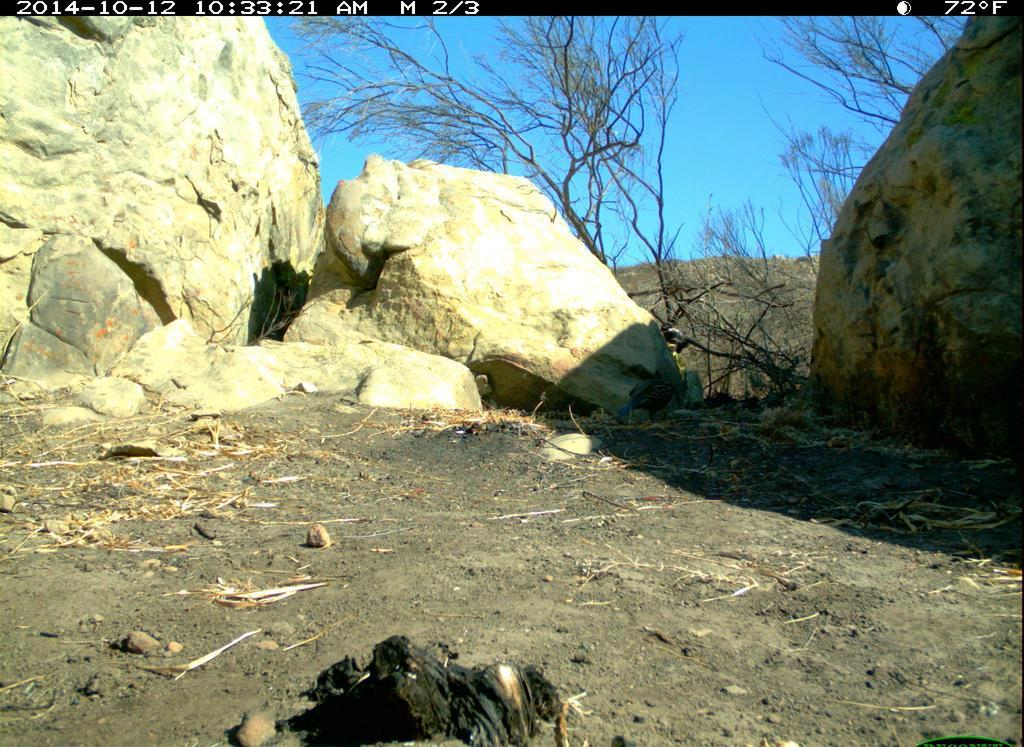bird: (616, 365, 676, 426)
